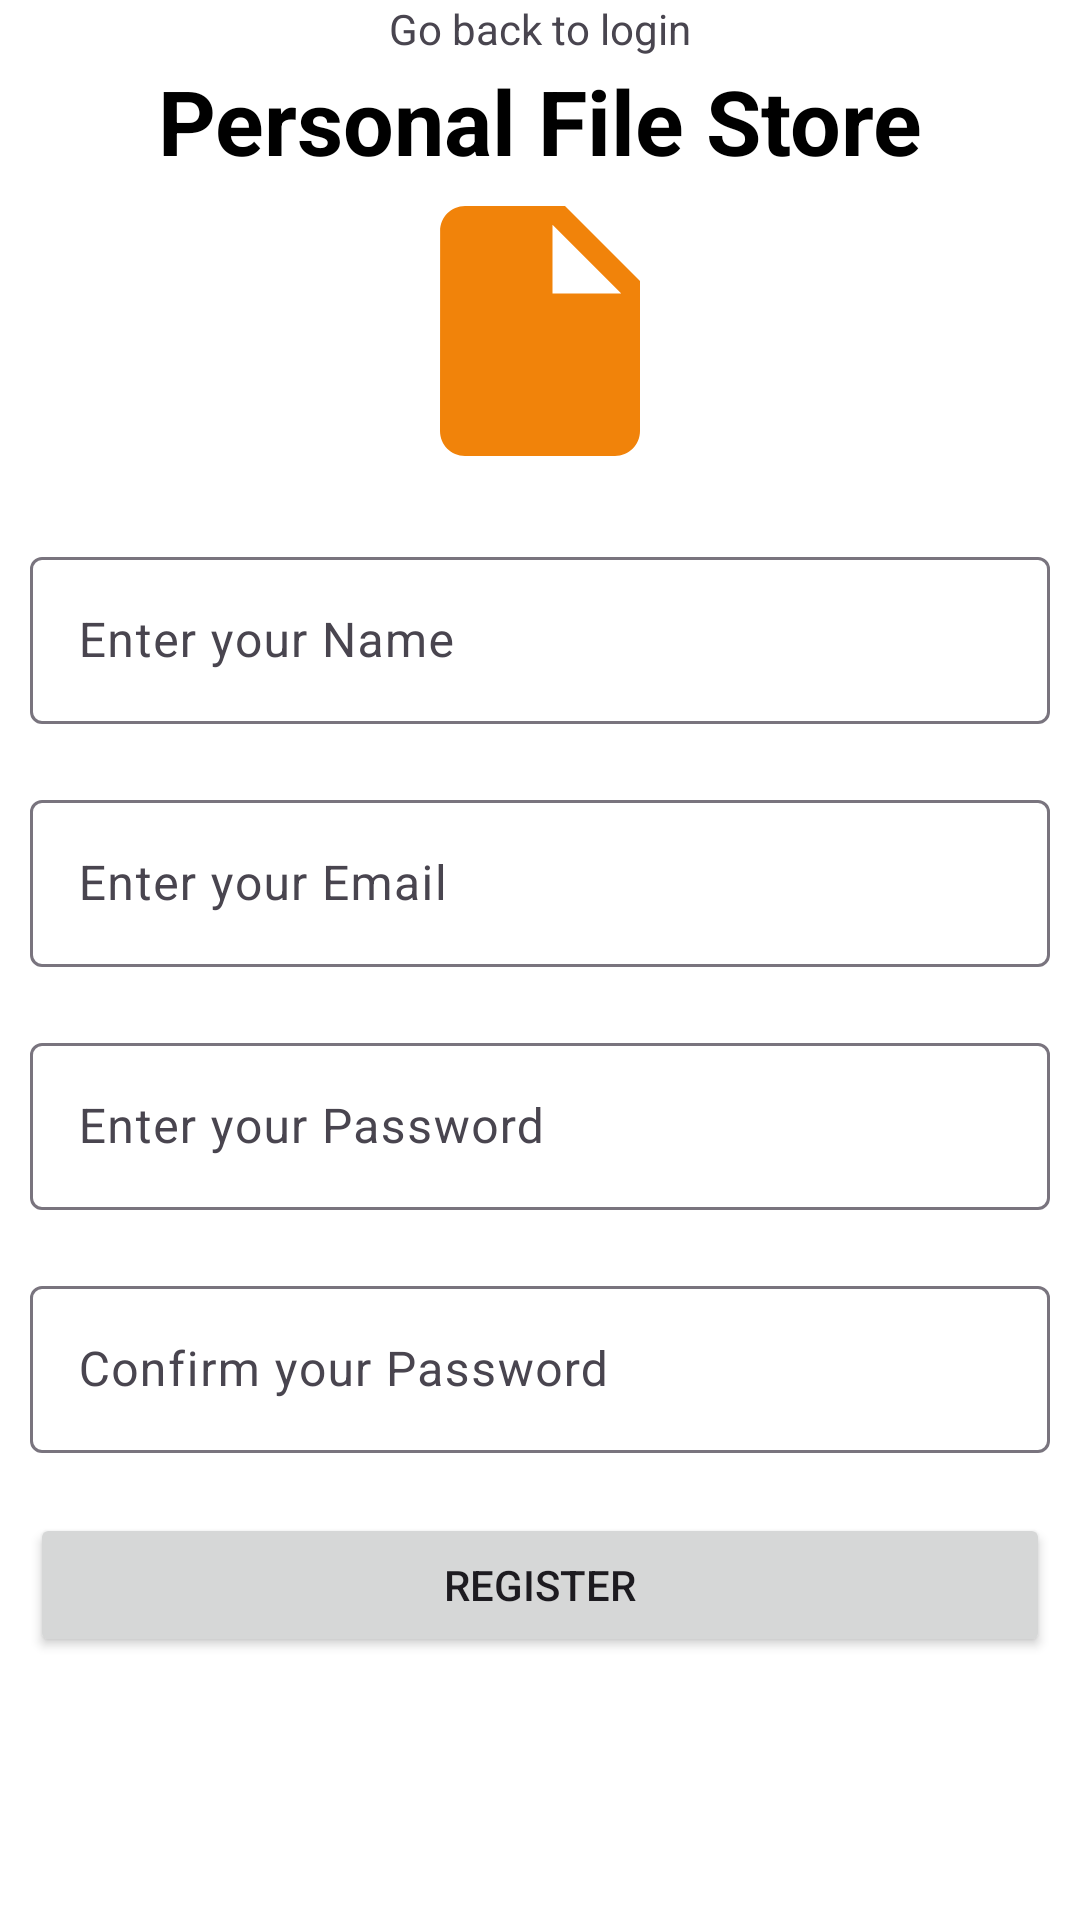

Screen size 1080 × 1920. Icon name, then its box in pixels as bbox=(x1, y1, x2, y2):
insert drive file: bbox=(440, 206, 640, 456)
